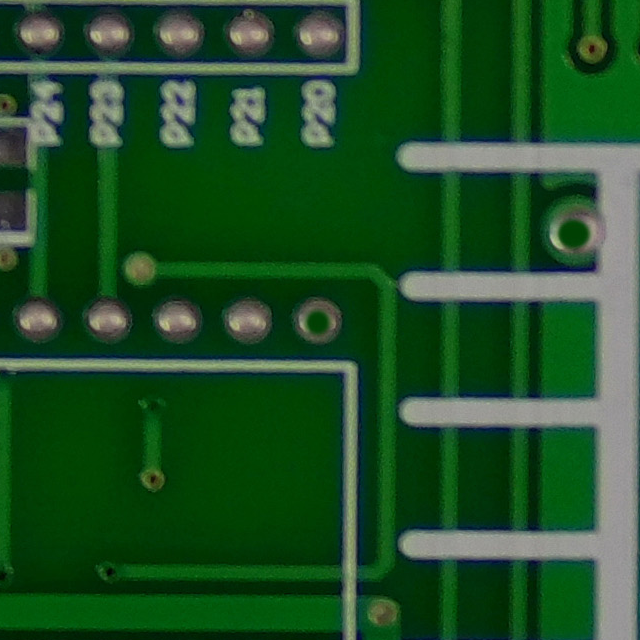missing_hole: (540, 194, 612, 273), (288, 289, 353, 351)
